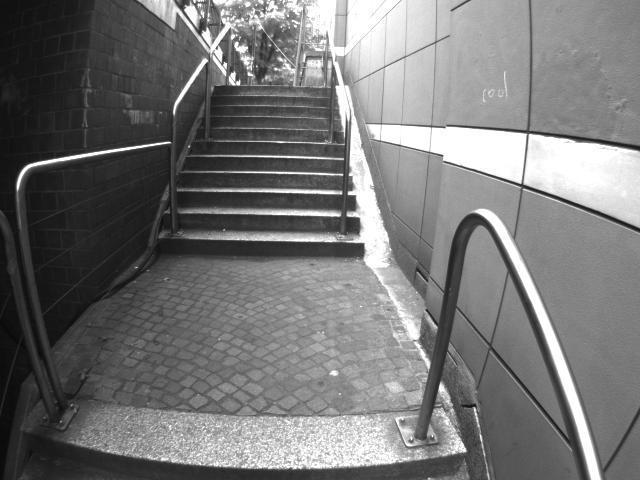Escaleras: (0, 384, 464, 479), (172, 81, 361, 261)
